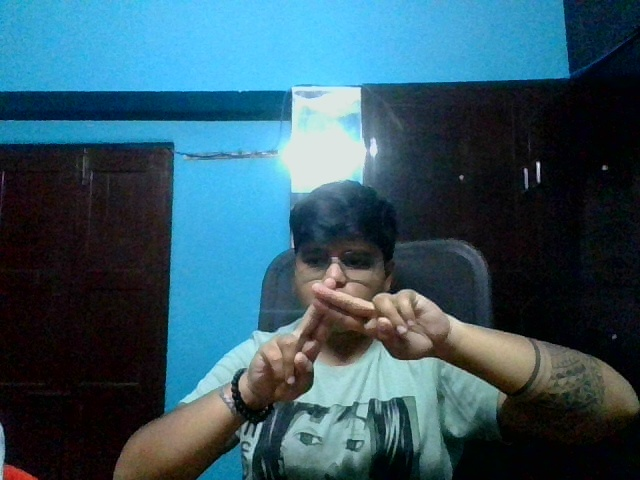F: (240, 280, 445, 412)
